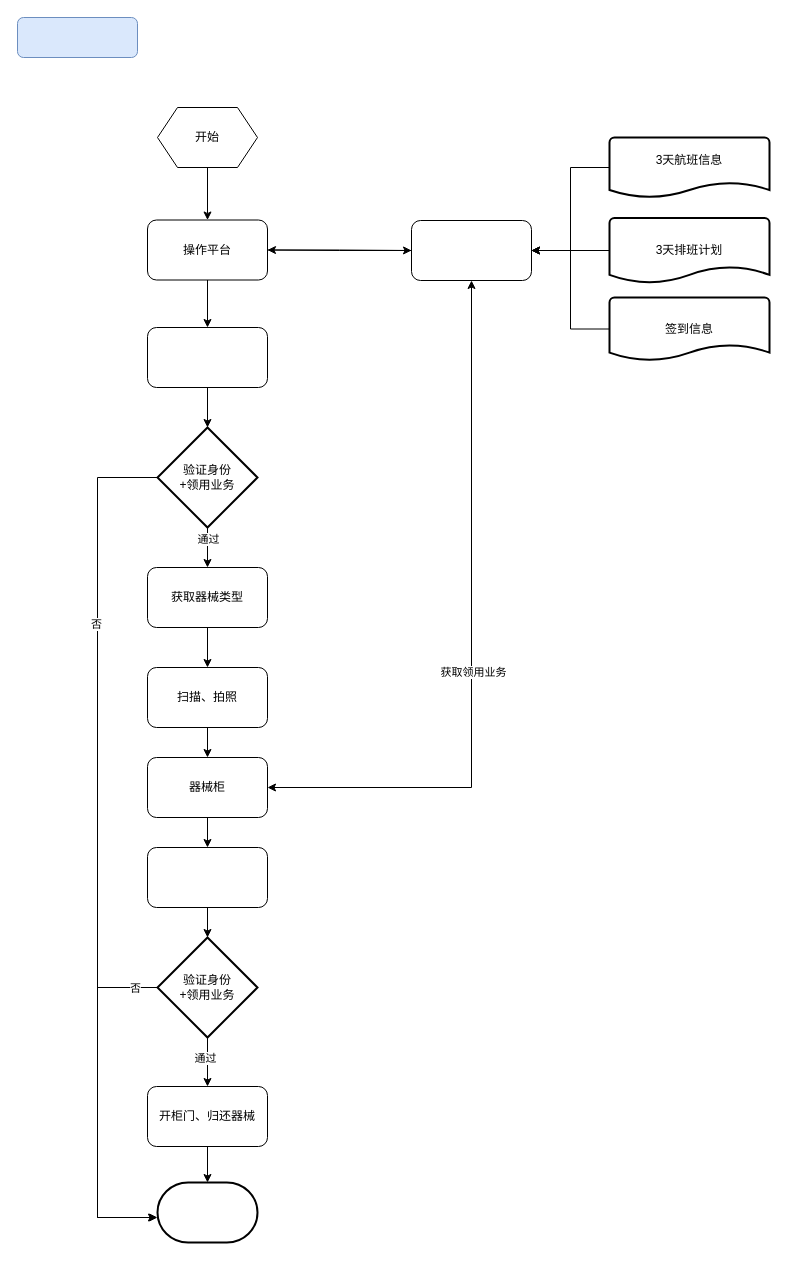
Some shapes in this 788 by 1261 pixel diagram are drawn without their labels. The centre of each missing label's shape, as x and y in pixels:
"器械柜归还" belongs at (x=77, y=37).
"归还" belongs at (x=207, y=877).
"本地服务器每5分钟 调用接口" belongs at (x=471, y=250).
"结束" belongs at (x=207, y=1212).
"领用" belongs at (x=207, y=357).
